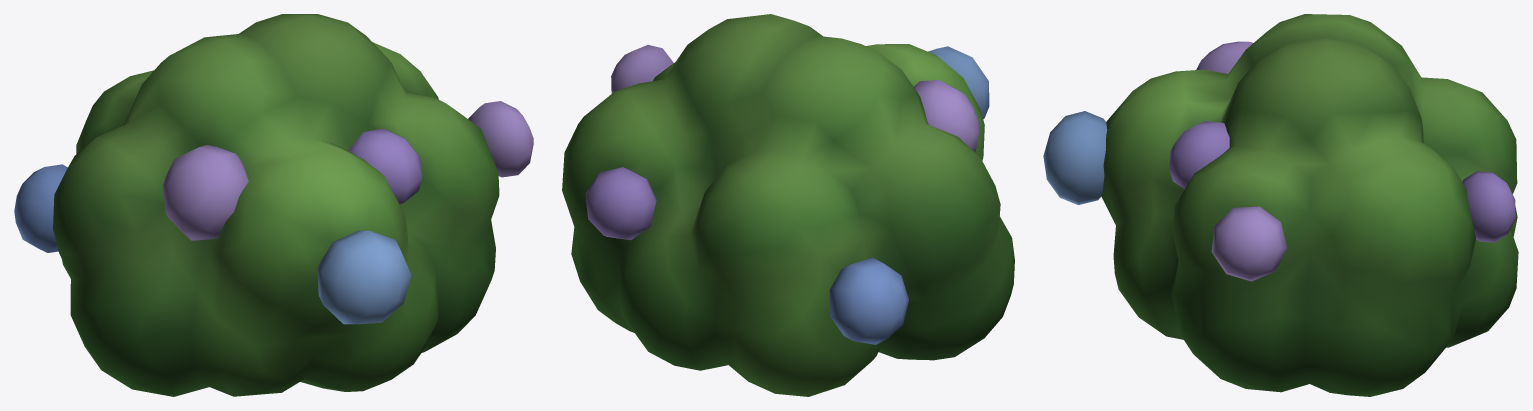
Rendered from bush-a-summer.glb.
The picture shows the model from 3 angles, left to right: view 1: azimuth 30°, elevation 25°; view 2: azimuth 150°, elevation 25°; view 3: azimuth 270°, elevation 25°; orthographic projection. The views are drawn at different scales.
Visible parts, largest first — view 1: bush-a-summer; view 2: bush-a-summer; view 3: bush-a-summer.
Part boxes in pixels (x1,y1,x2,y2): bush-a-summer: (14,14,533,396); bush-a-summer: (562,14,1014,396); bush-a-summer: (1043,14,1518,396).
Size of the model in its own units: 1.07 by 0.8037 by 1.08.
